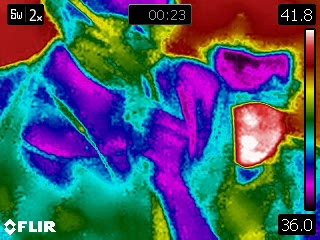human: (1, 1, 217, 240), (176, 34, 320, 240)
